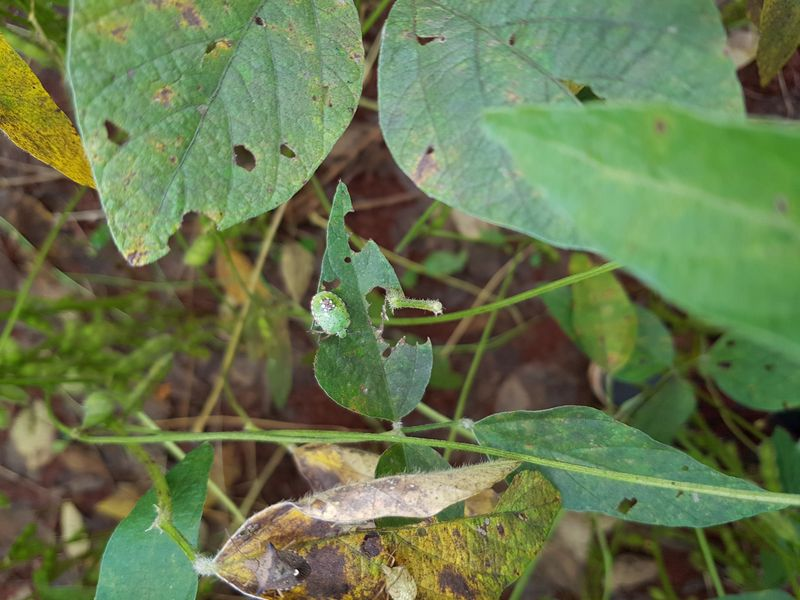Euschistus_heros_adulto: (235, 529, 326, 600)
Euschistus_heros_ninfa: (369, 545, 431, 600)
Nezara_viridula_ninfa: (291, 281, 361, 353)
